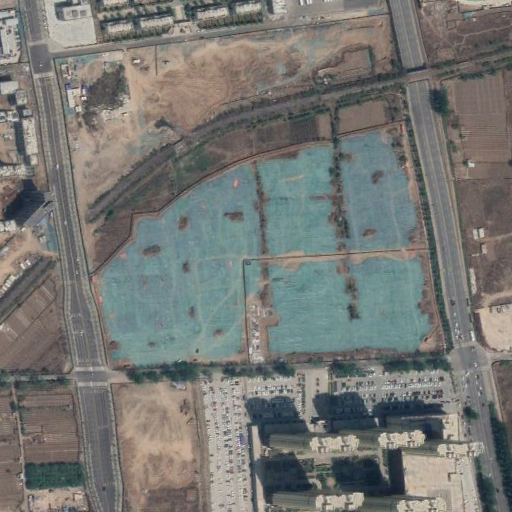cw: (90, 124, 443, 366)
